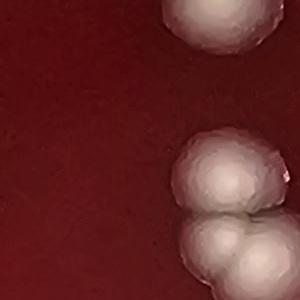colony: (163, 122, 296, 222), (208, 200, 300, 300), (153, 0, 289, 60), (169, 205, 261, 289)
